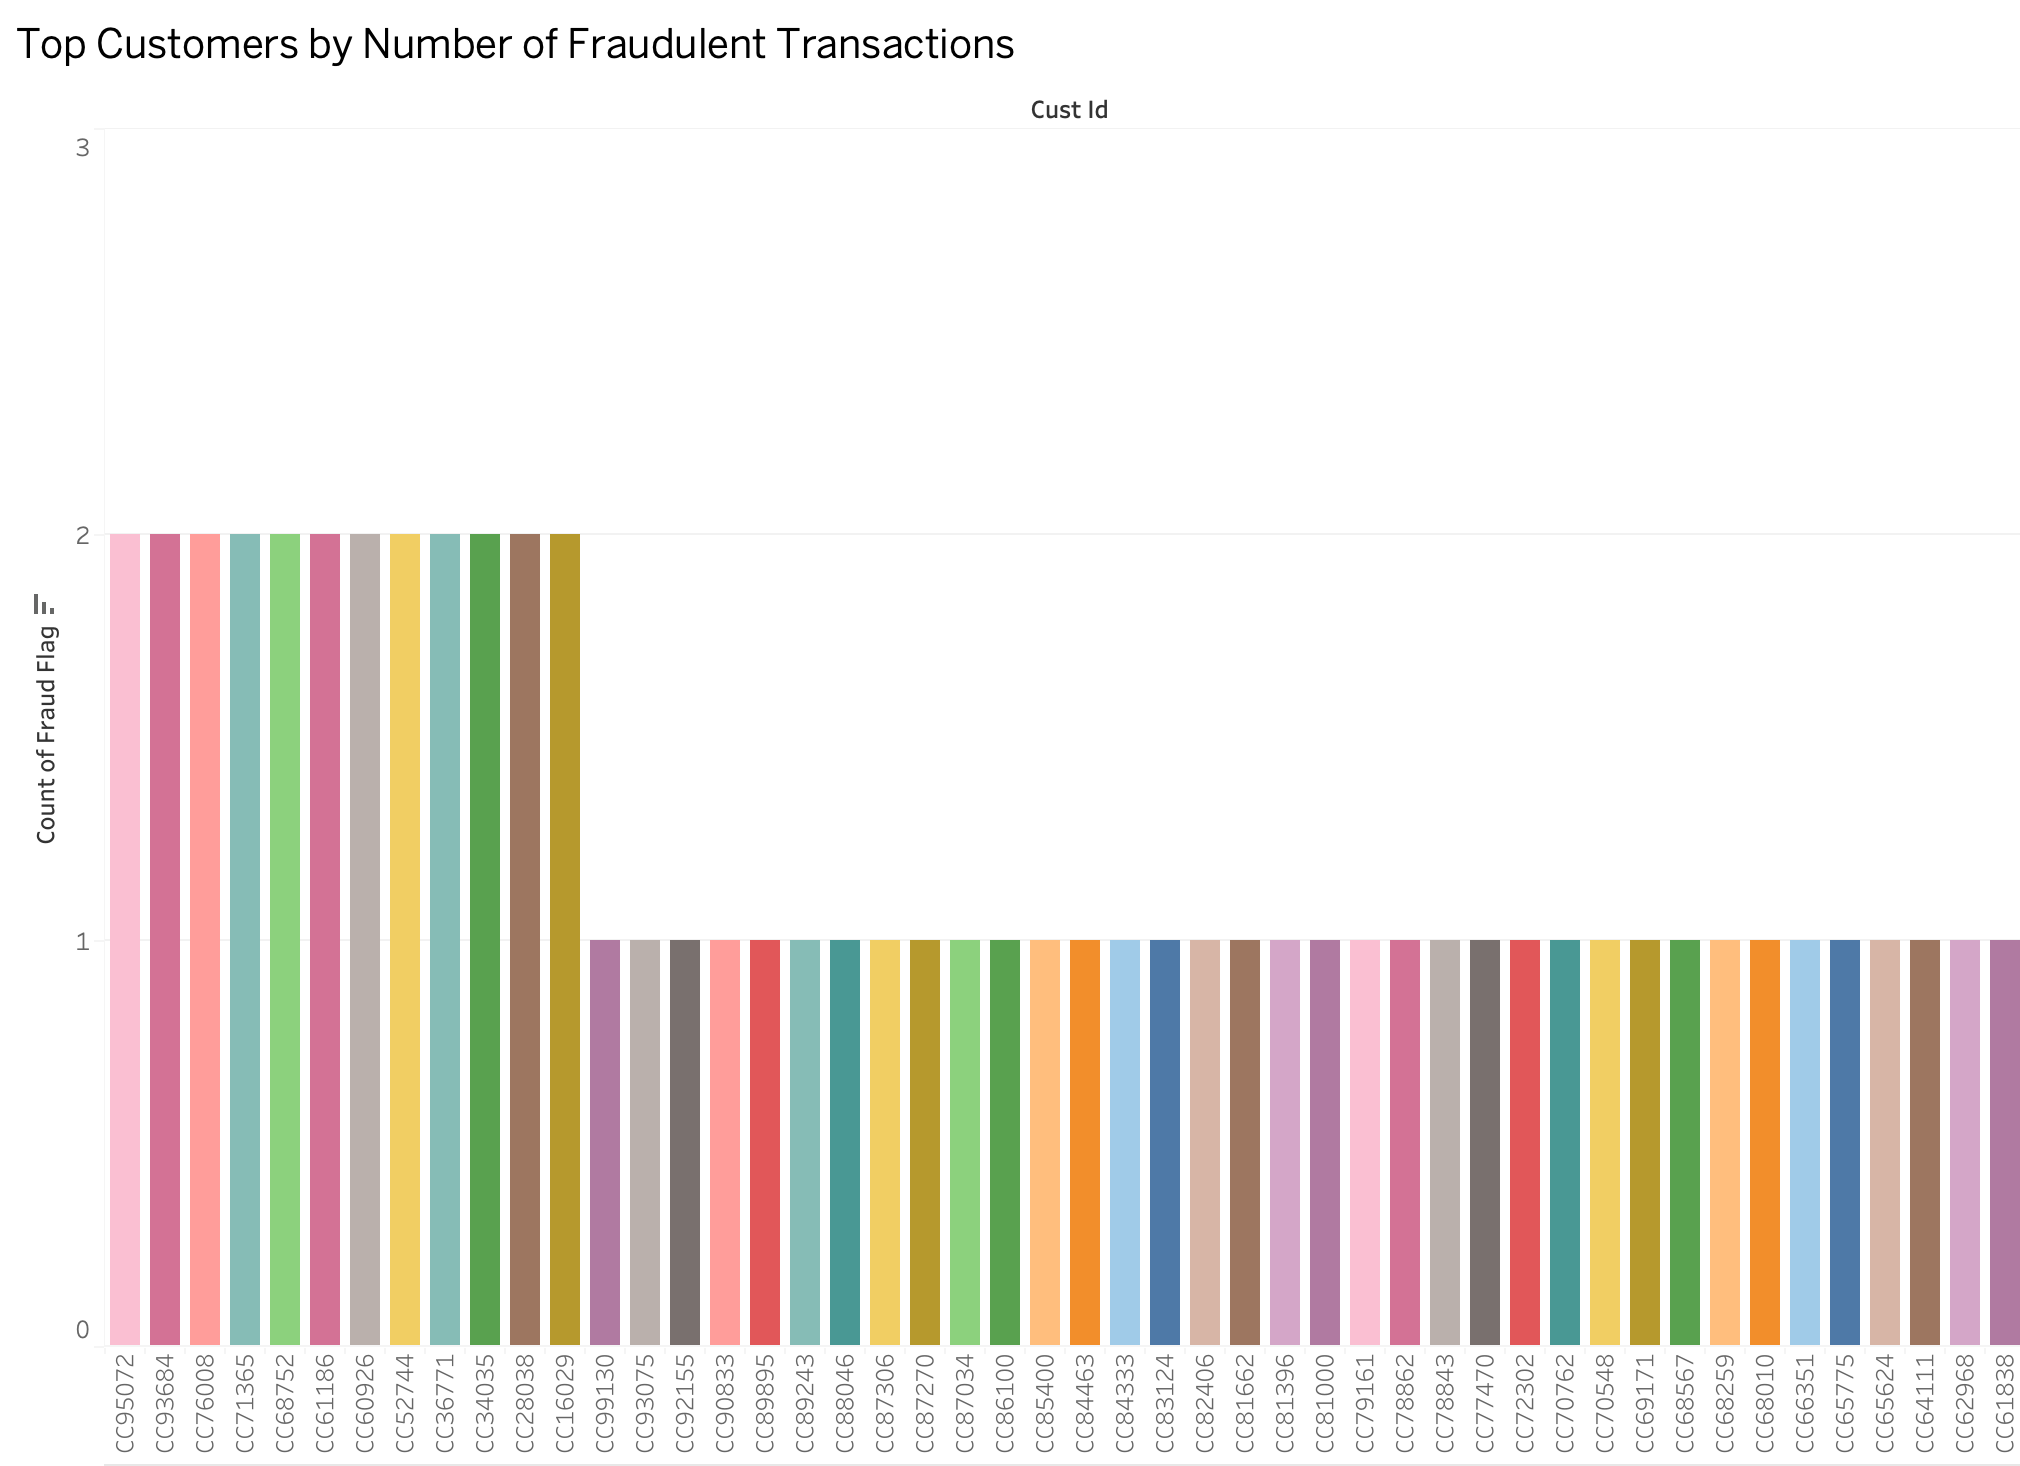

This screenshot's page, from the dashboard's own definition file:
{"tool":"tableau","page":{"name":"Dashboard 5","canvas":[1000,1000],"units":"permille","ordinal":2},"visuals":[{"type":"worksheet","title":"Sheet 16","mark":"Automatic","rows":["Quantity","price_unit"],"cols":["transaction_date"],"box":[6.2,9.6,987.7,980.7]}]}

Visuals, with their boxes on the dashboard's canvas, which has no fixed pixel size, in thousandths of its width and height (x1, y1, x2, y2). These are canvas units, not pixel positions in the 2020x1466 screenshot, which may show the page scaled, cropped or inside an application window:
"Sheet 16" worksheet: <region>6, 10, 994, 990</region>
